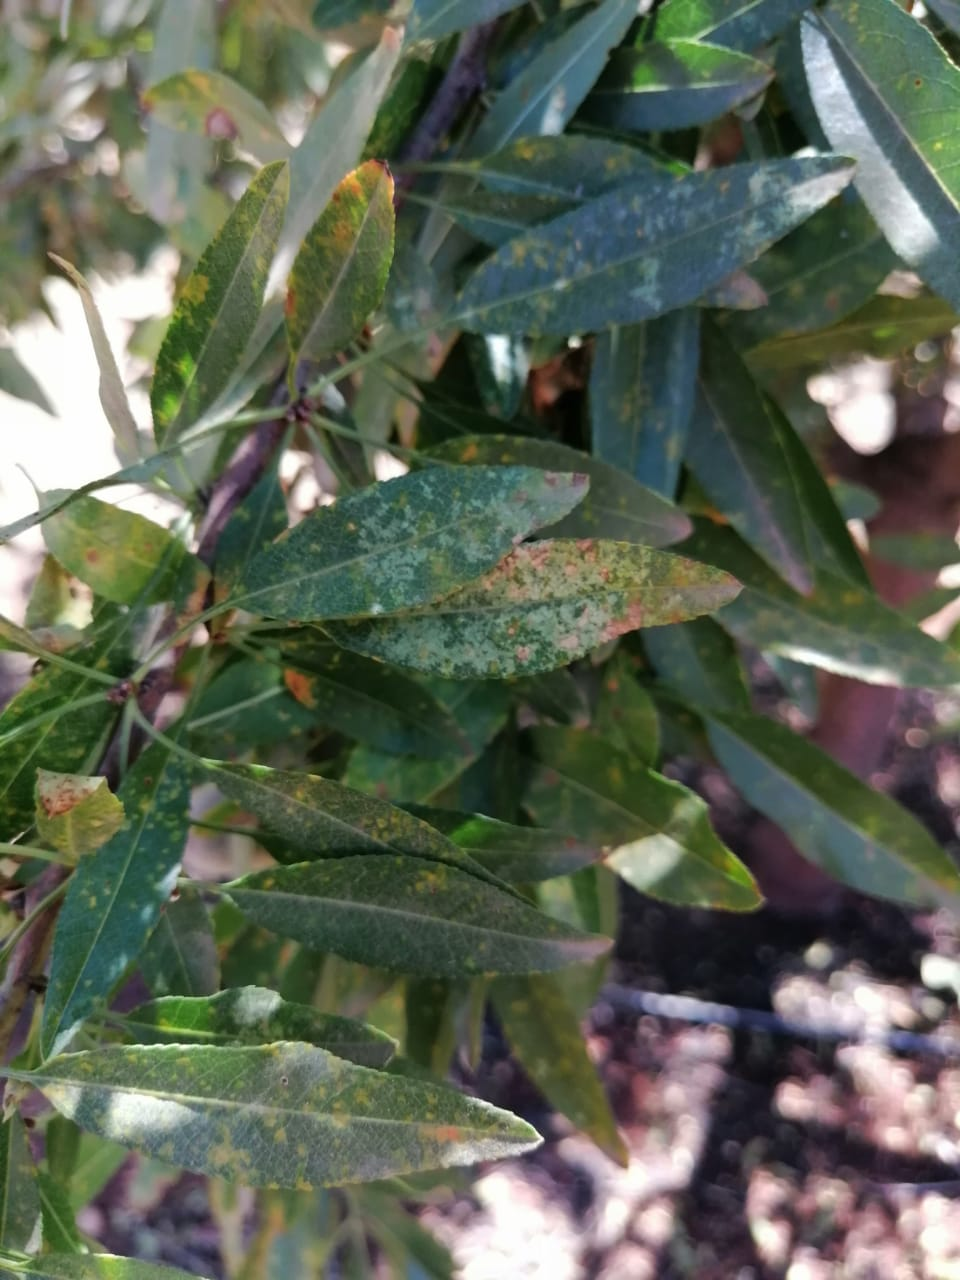faux tigre: (32, 1038, 545, 1194), (313, 542, 749, 684), (224, 465, 591, 623), (214, 850, 617, 980)
